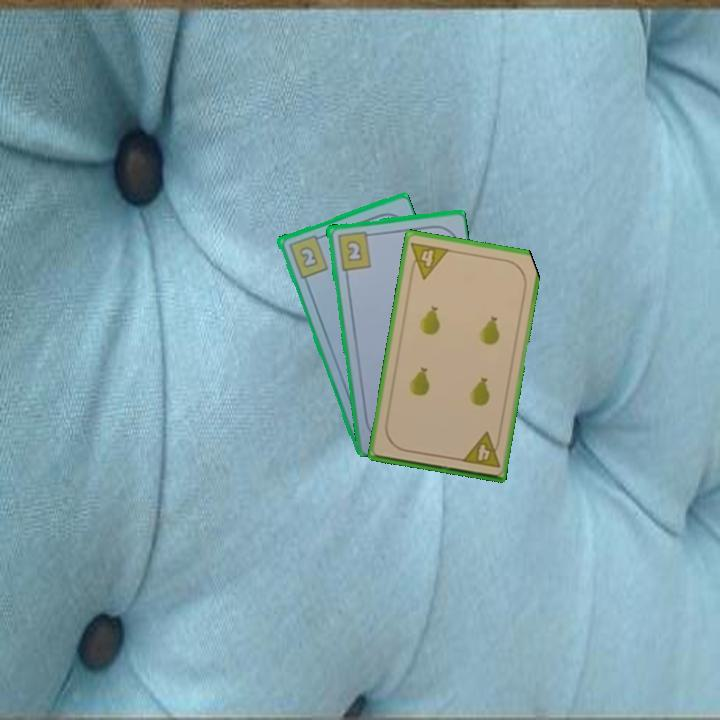2b: (285, 231, 330, 281), (334, 227, 376, 273)
4p: (406, 238, 452, 282), (458, 429, 503, 471)
